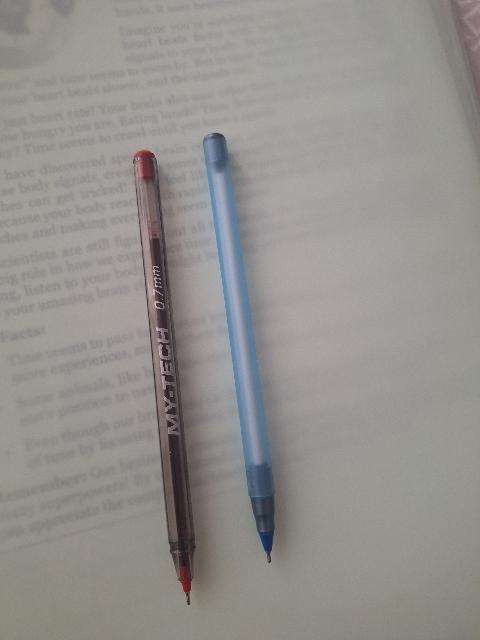writing_tool: (196, 132, 281, 566), (128, 148, 199, 605)
